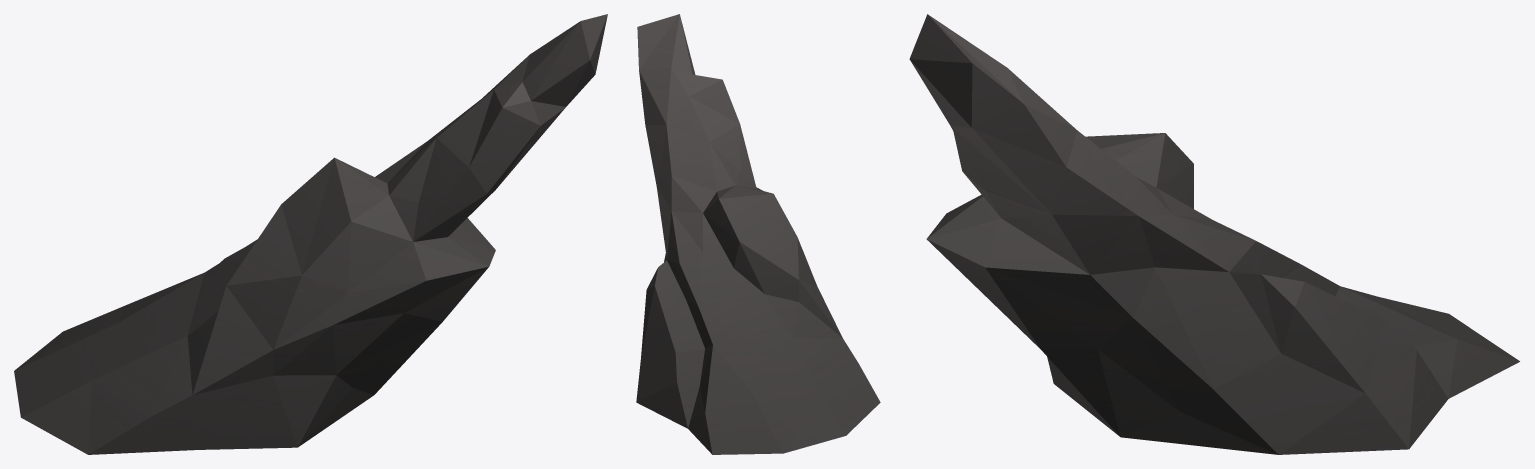
The model's file is ZLP_Rock_D_15.FBX.
3 renders of one model, left to right at view 1: azimuth 30°, elevation 25°; view 2: azimuth 150°, elevation 25°; view 3: azimuth 270°, elevation 25°, orthographic. The views are drawn at different scales.
Visible parts, largest first — view 1: ZLP_Rock_D_15; view 2: ZLP_Rock_D_15; view 3: ZLP_Rock_D_15.
Part boxes in pixels (box(x1,y1,x2,y2)): ZLP_Rock_D_15: box(14, 14, 607, 454); ZLP_Rock_D_15: box(636, 14, 880, 454); ZLP_Rock_D_15: box(909, 14, 1519, 454).
Size of the model in its own units: 206 by 181 by 192.
